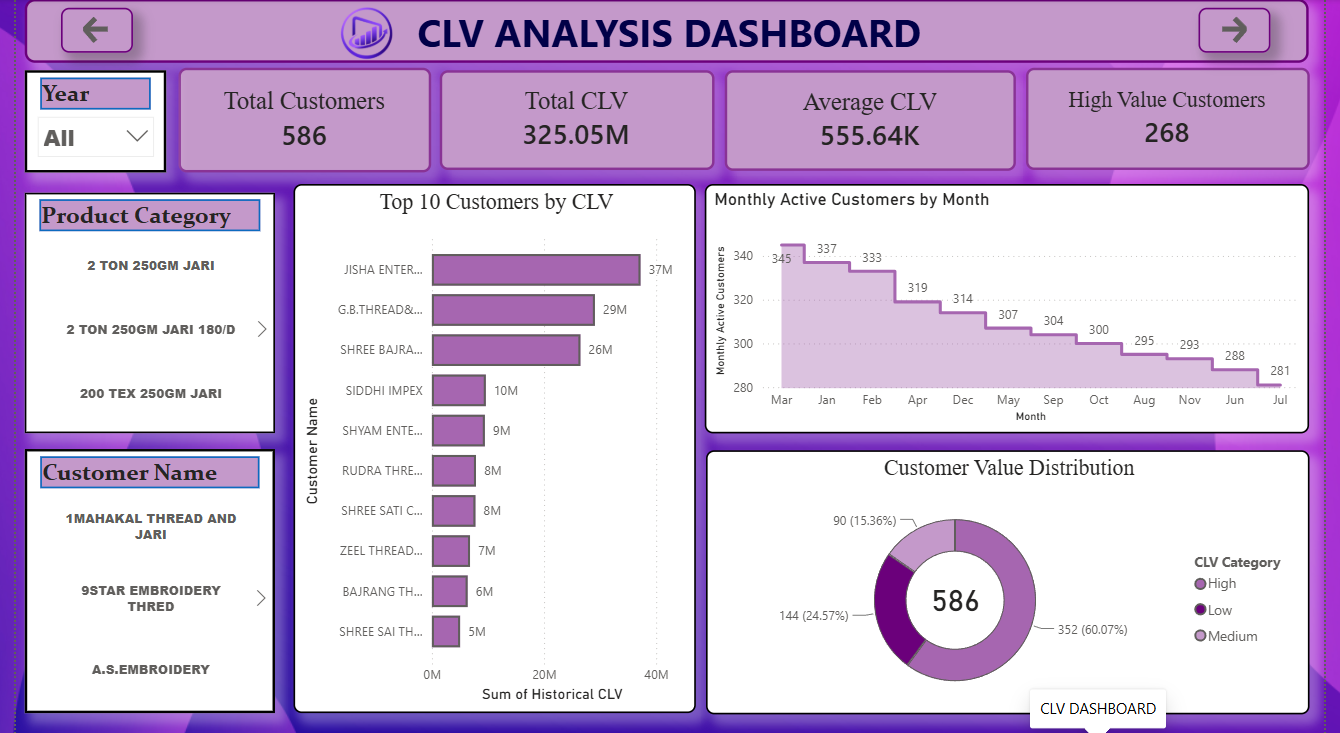

This screenshot's page, from the dashboard's own definition file:
{"tool":"powerbi","page":{"name":"CLV DASHBOARD ","canvas":[1280,720],"ordinal":5},"visuals":[{"type":"textbox","title":"CLV ANALYSIS DASHBOARD","box":[8.8,0,1256.2,62.5],"z":0},{"type":"cardVisual","title":"👥 Total Customers","fields":{"Data":["Cleaned_File.Total Customers"]},"box":[158.8,67.5,247.5,102.5],"z":1000},{"type":"cardVisual","title":"Total Customer Value","fields":{"Data":["Customer_RFM.Total CLV"]},"box":[415,70,268.8,97.5],"z":2000},{"type":"cardVisual","title":"AVERAGE CLV","fields":{"Data":["Customer_RFM.Average CLV"]},"box":[693.8,70,285,98.8],"z":3000},{"type":"cardVisual","title":"HIGH VALUE CUSTOMER","fields":{"Data":["Customer_RFM.High Value Customers"]},"box":[987.5,67.5,277.5,100],"z":4000},{"type":"clusteredBarChart","title":"Top 10 Customers by CLV","fields":{"Category":["Customer_RFM.Customer Name"],"Y":["Sum(Customer_RFM.Historical CLV)"]},"box":[271.2,181.2,393.8,517.5],"z":5000},{"type":"donutChart","title":"Customer Value Distribution ","fields":{"Category":["Customer_RFM.CLV Category"],"Y":["CountNonNull(Customer_RFM.Customer Name)"]},"box":[675,441.2,590,258.8],"z":6000},{"type":"lineChart","fields":{"Category":["DateTable.Month"],"Y":["Customer_RFM.Monthly Active Customers"]},"box":[673.8,181.2,591.2,243.8],"z":7000},{"type":"slicer","fields":{"Values":["Cleaned_File.Customer Name"]},"box":[8.8,440,245,258.8],"z":8000},{"type":"slicer","fields":{"Values":["Cleaned_File.Product Category"]},"box":[8.8,190,245,235],"z":9000},{"type":"slicer","fields":{"Values":["DateTable.Year"]},"box":[8.8,70,138.8,100],"z":10000},{"type":"actionButton","box":[43.8,8.8,70,43.8],"z":10001},{"type":"actionButton","box":[1156.2,8.8,70,43.8],"z":10002},{"type":"image","box":[305,0,77.5,67.5],"z":10003}]}

Visuals, with their boxes in screenshot pixels (x1, y1, x2, y2), scaled from the page's 1280x720 canvas onto the 1340x733 screenshot:
"CLV ANALYSIS DASHBOARD" textbox: box=[9, 0, 1324, 64]
"👥 Total Customers" cardVisual: box=[166, 69, 425, 173]
"Total Customer Value" cardVisual: box=[434, 71, 716, 171]
"AVERAGE CLV" cardVisual: box=[726, 71, 1025, 172]
"HIGH VALUE CUSTOMER" cardVisual: box=[1034, 69, 1324, 171]
"Top 10 Customers by CLV" clusteredBarChart: box=[284, 184, 696, 711]
"Customer Value Distribution " donutChart: box=[707, 449, 1324, 713]
lineChart - DateTable.Month x Customer_RFM.Monthly Active Customers: box=[705, 184, 1324, 433]
slicer - Cleaned_File.Customer Name: box=[9, 448, 266, 711]
slicer - Cleaned_File.Product Category: box=[9, 193, 266, 433]
slicer - DateTable.Year: box=[9, 71, 155, 173]
actionButton: box=[46, 9, 119, 54]
actionButton: box=[1210, 9, 1284, 54]
image: box=[319, 0, 400, 69]
